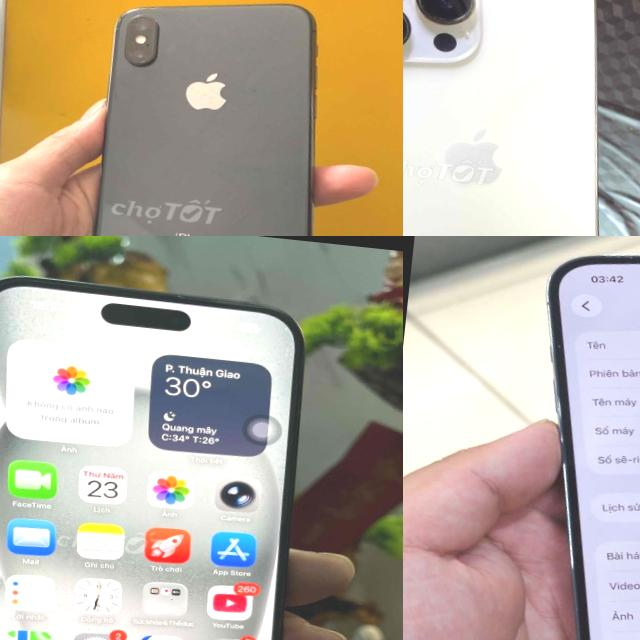gen_14: (495, 236, 640, 640), (403, 0, 640, 236)
gen_15: (0, 260, 343, 640)
gen_x_xs: (94, 4, 316, 236)
scratch: (117, 0, 144, 18)
